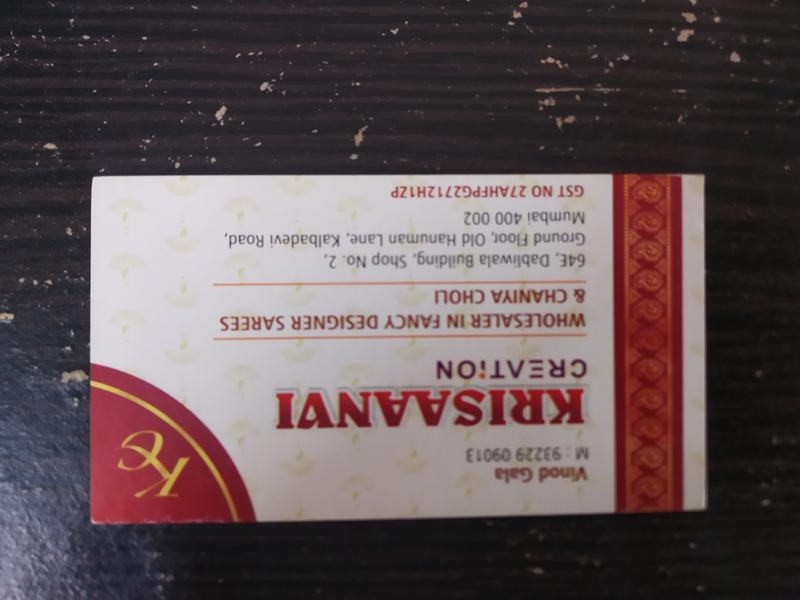card: (91, 175, 712, 525)
